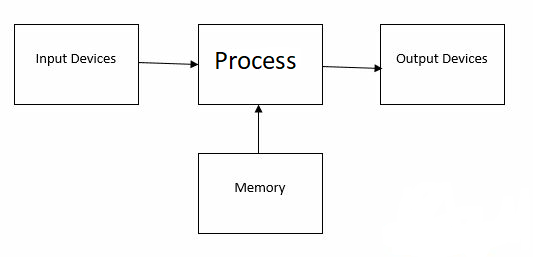arrow: (137, 57, 199, 71), (324, 62, 383, 74), (252, 104, 264, 154)
process: (377, 22, 507, 108), (196, 151, 325, 237), (11, 22, 141, 107), (196, 22, 325, 107)
text: (212, 50, 297, 71), (395, 49, 488, 66), (33, 51, 118, 67), (233, 179, 286, 195)
